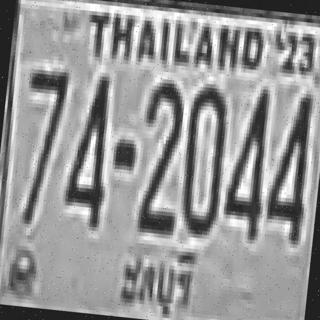N00: (176, 80, 230, 234)
N02: (134, 76, 187, 233), (134, 78, 185, 224)
N04: (60, 70, 114, 227), (262, 87, 314, 241), (220, 83, 272, 236)
N07: (16, 65, 68, 222), (20, 65, 68, 185)
P13: (116, 242, 199, 320)
